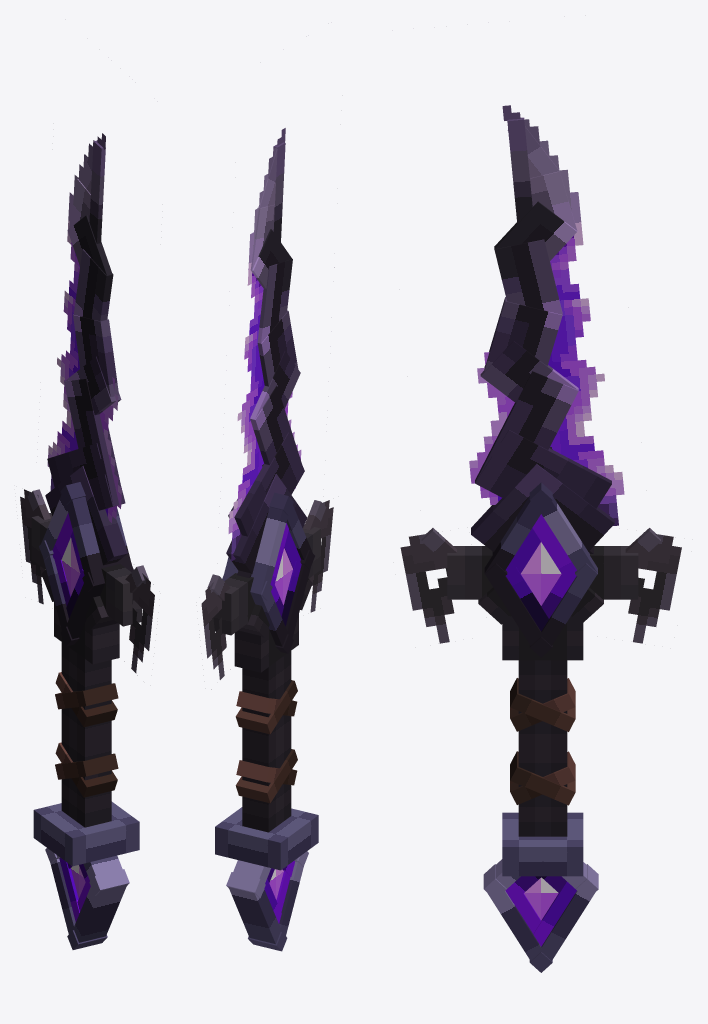
File: night_piercer.glb
The picture shows the model from 3 angles, left to right: view 1: azimuth 30°, elevation 25°; view 2: azimuth 150°, elevation 25°; view 3: azimuth 270°, elevation 25°; orthographic projection. The views are drawn at different scales.
Parts seen in each view (by area): view 1: cube (×33); view 2: cube (×33); view 3: cube (×32).
Part boxes in pixels (x1,y1,x2,y2): cube (×33): (20,133,154,942); cube (×33): (201,128,334,944); cube (×32): (400,105,681,960).
Size of the model in its own units: 0.1562 by 2.11 by 0.6163.
Materials: 1 (1 with a texture image).
